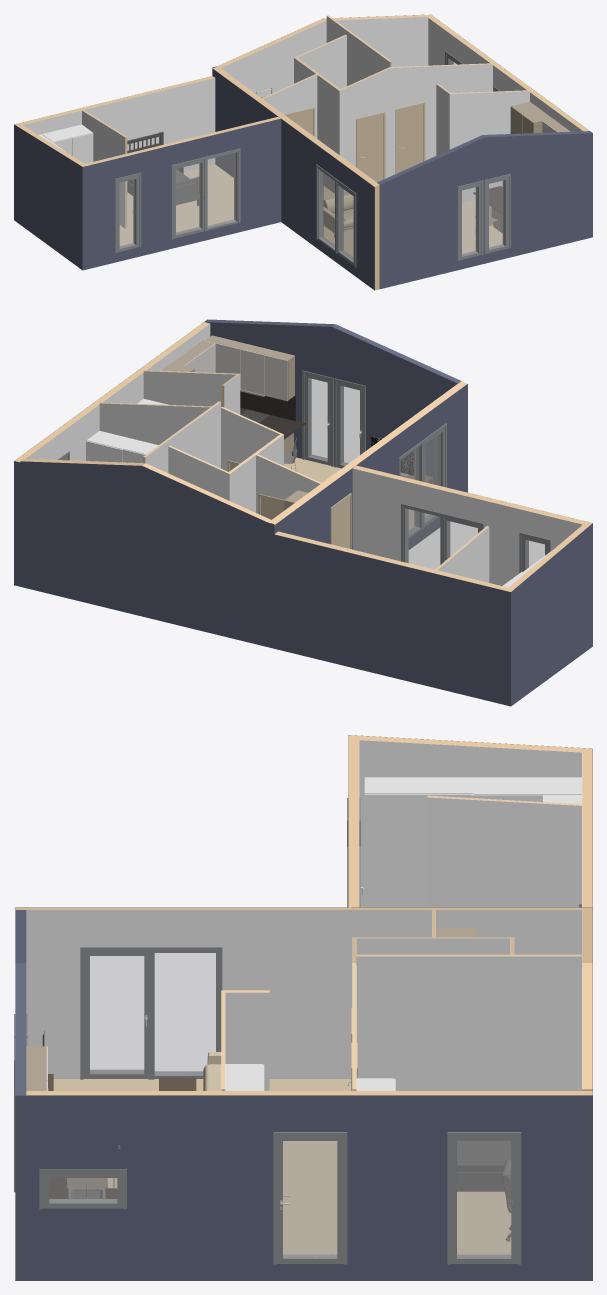
File: dmitrij.fbx
The picture shows the model from 3 angles, top to bottom: view 1: azimuth 30°, elevation 25°; view 2: azimuth 150°, elevation 25°; view 3: azimuth 270°, elevation 25°; orthographic projection. The views are drawn at different scales.
Parts seen in each view (by area): view 1: IfcWallStandardCase/Basic Wall:Sandwich - isorines sienos 16, IfcWall/Part:3119061, IfcWall/Part:3119144, IfcWall/Part:3119140, IfcWall/Part:3138929, IfcWall/Part:3118836, IfcWall/Part:3119065, IfcWall/Part:3118866, IfcSlab/Part:3119117, IfcWindow/Langai (Akrusta):1000x2100x160:3119123, IfcWindow/Langai (Akrusta):1000x2100x160 (dešininis):3119124, IfcWall/Part:3118833 (+27 smaller); view 2: IfcWall/Part:3118837, IfcWall/Part:3119066, IfcWallStandardCase/Basic Wall:Sandwich - isorines sienos 16, IfcWall/Part:3119140, IfcWall/Part:3119060, IfcWall/Part:3138929, IfcWall/Part:3118833, IfcWall/Part:3136018, IfcWindow/Langai (Akrusta):700x2100x160 (KAIRINIS):3127096, IfcWall/Part:3118843, IfcWall/Part:3118865, IfcWindow/Langai (Akrusta):700x2100x160 (KAIRINIS):3127163 (+25 smaller); view 3: IfcWall/Part:3118834, IfcWall/Part:3118842, IfcWall/Part:3119055, IfcWall/Part:3120523, IfcSlab/Part:3118870, IfcFurnishingElement/Ikea spinta:3200 x 600 x 2100mm 2:31191, IfcWindow/Langai (Akrusta):1000x2100x160 (dešininis):3119097, IfcDoor/Durys išorinės:1000x2100x160 (kairinės):3119463, IfcWindow/Langai (Akrusta):1000x2100x160 (kairinis):3137102, IfcWindow/Langai (Akrusta):1000x2100x160:3118894, IfcWall/Part:3119139, IfcWindow/Langai (Akrusta):1200x600x160 (dešininis) 2:312790 (+12 smaller).
Part boxes in pixels (box(x1,y1,x2,y2)): IfcWallStandardCase/Basic Wall:Sandwich - isorines sienos 16: box(377, 131, 592, 289); IfcWall/Part:3119061: box(82, 118, 281, 270); IfcWall/Part:3119144: box(339, 64, 492, 194); IfcWall/Part:3119140: box(14, 124, 82, 269); IfcWall/Part:3138929: box(281, 119, 374, 290); IfcWall/Part:3118836: box(221, 17, 428, 96); IfcWall/Part:3119065: box(23, 78, 215, 171); IfcWall/Part:3118866: box(449, 91, 529, 202); IfcSlab/Part:3119117: box(119, 164, 233, 245); IfcWindow/Langai (Akrusta):1000x2100x160:3119123: box(204, 148, 240, 231); IfcWindow/Langai (Akrusta):1000x2100x160 (dešininis):3119124: box(171, 156, 207, 239); IfcWall/Part:3118833: box(428, 18, 582, 131); IfcWall/Part:3118837: box(14, 461, 274, 648); IfcWall/Part:3119066: box(274, 534, 510, 706); IfcWallStandardCase/Basic Wall:Sandwich - isorines sienos 16: box(205, 319, 461, 484); IfcWall/Part:3119140: box(510, 523, 592, 706); IfcWall/Part:3119060: box(352, 468, 582, 585); IfcWall/Part:3138929: box(356, 384, 467, 549); IfcWall/Part:3118833: box(26, 324, 210, 460); IfcWall/Part:3136018: box(99, 403, 209, 444); IfcWindow/Langai (Akrusta):700x2100x160 (KAIRINIS):3127096: box(302, 370, 333, 466); IfcWall/Part:3118843: box(274, 466, 354, 648); IfcWall/Part:3118865: box(143, 371, 235, 406); IfcWindow/Langai (Akrusta):700x2100x160 (KAIRINIS):3127163: box(334, 378, 365, 468); IfcWall/Part:3118834: box(15, 1095, 592, 1280); IfcWall/Part:3118842: box(26, 910, 581, 1078); IfcWall/Part:3119055: box(356, 956, 581, 1090); IfcWall/Part:3120523: box(427, 797, 581, 907); IfcSlab/Part:3118870: box(53, 1079, 511, 1254); IfcFurnishingElement/Ikea spinta:3200 x 600 x 2100mm 2:31191: box(364, 777, 581, 907); IfcWindow/Langai (Akrusta):1000x2100x160 (dešininis):3119097: box(447, 1132, 521, 1264); IfcDoor/Durys išorinės:1000x2100x160 (kairinės):3119463: box(273, 1132, 347, 1264); IfcWindow/Langai (Akrusta):1000x2100x160 (kairinis):3137102: box(80, 947, 154, 1079); IfcWindow/Langai (Akrusta):1000x2100x160:3118894: box(148, 947, 222, 1079); IfcWall/Part:3119139: box(359, 740, 581, 906); IfcWindow/Langai (Akrusta):1200x600x160 (dešininis) 2:312790: box(39, 1169, 126, 1209).
Bounding box in the file's own units: 1267 × 379 × 852.
